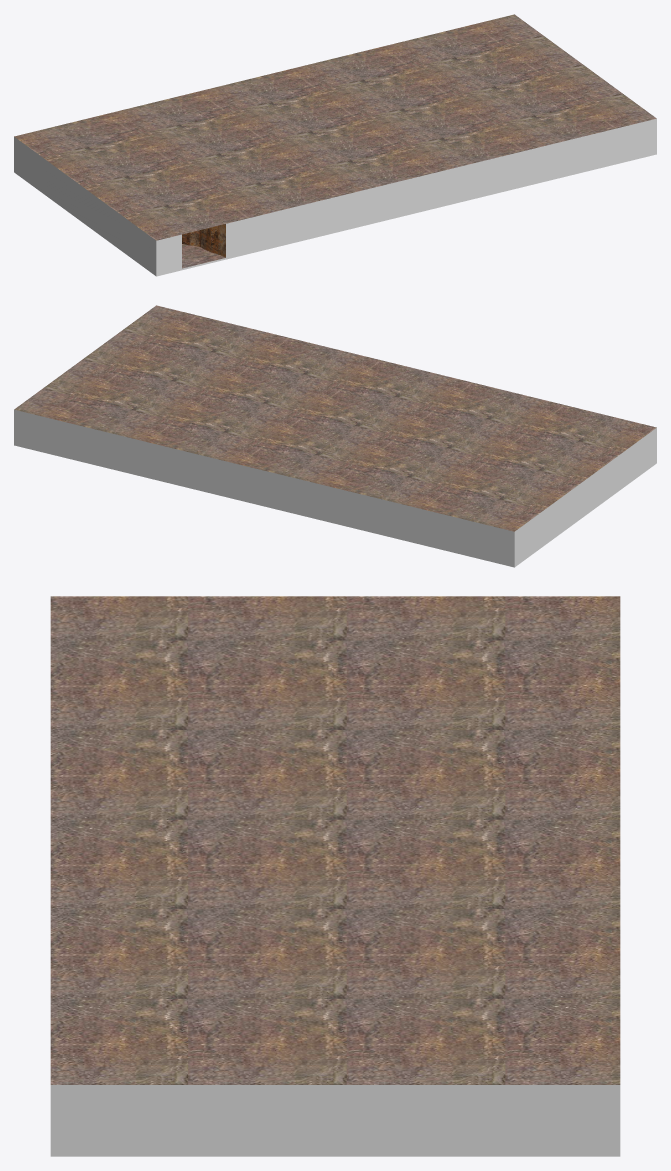
The model's file is Cave.fbx.
3 views of the same model, one above another, from view 1: azimuth 30°, elevation 25°; view 2: azimuth 150°, elevation 25°; view 3: azimuth 270°, elevation 25° (orthographic). The views are drawn at different scales.
Visible parts, largest first — view 1: Model; view 2: Model; view 3: Model.
Part boxes in pixels (bbox=[...]): Model: bbox=[14, 14, 656, 276]; Model: bbox=[14, 305, 656, 567]; Model: bbox=[50, 596, 620, 1156].
Bounding box in the file's own units: 16795 × 1149 × 8275.
